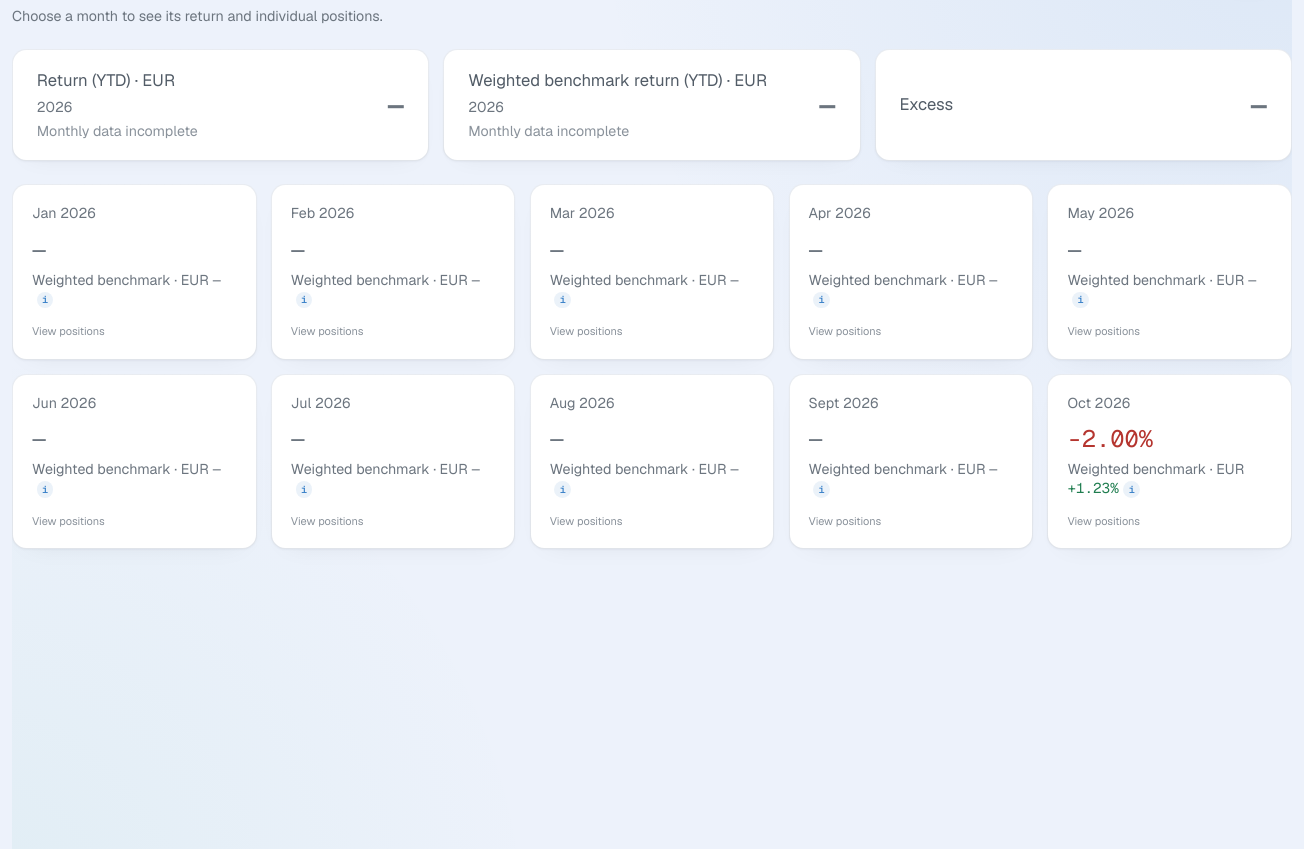
AIRS monthly report › opens a month with only its reported return and individual positions
Check: the button "Jan 2026 — Weighted benchmark · EUR — i View positions" is shown, box [12,184,257,360]
Click the button that starts with "Oct 2026" at [1170, 462], box [1047,374,1292,549]
(page scrolled)
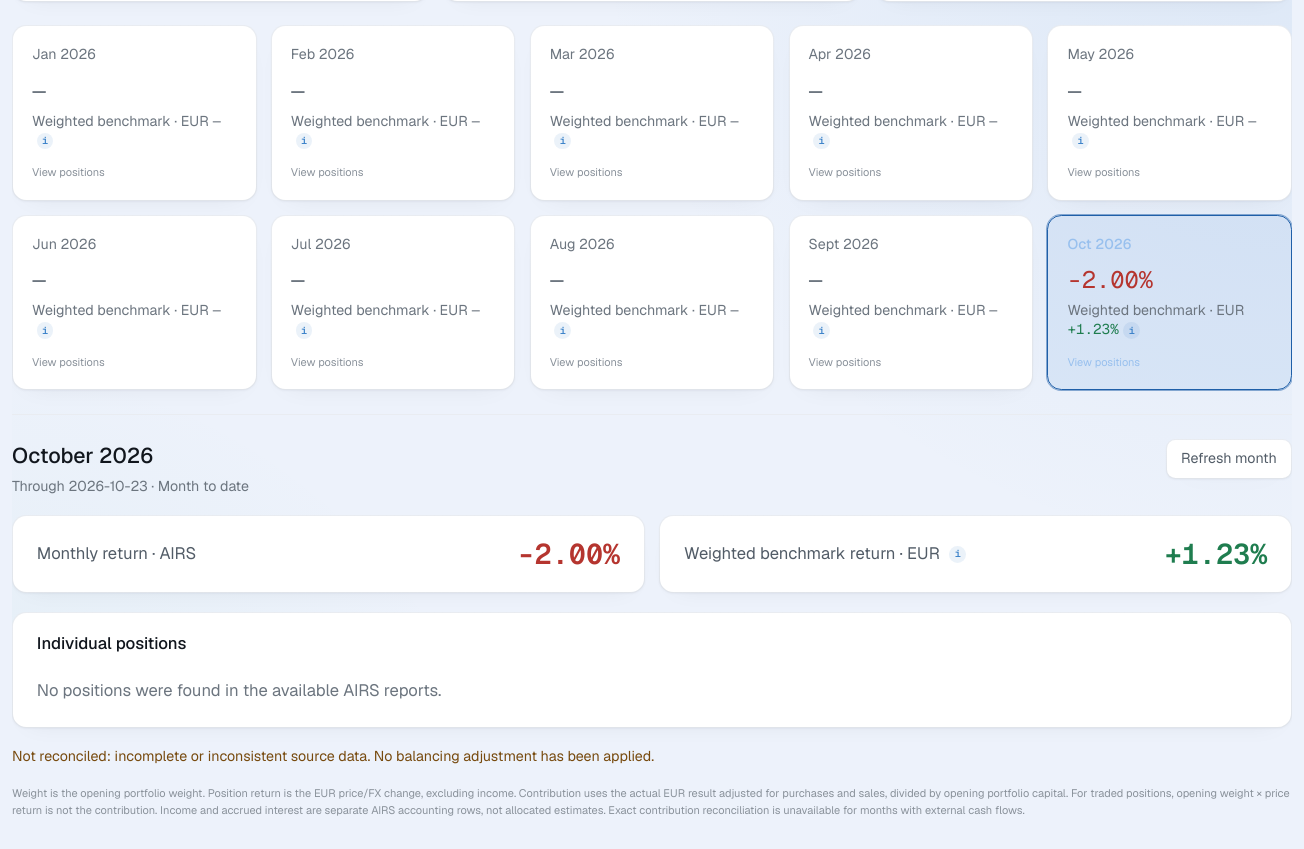
Check: the element with id "monthly-report-details" is shown, box [12,414,1292,820]
Check: the element with id "monthly-report-details" shows "Weighted benchmark return · EUR", box [684,542,940,564]
Check: the element with id "monthly-report-details" shows "+1.23%", box [1165,535,1267,572]
